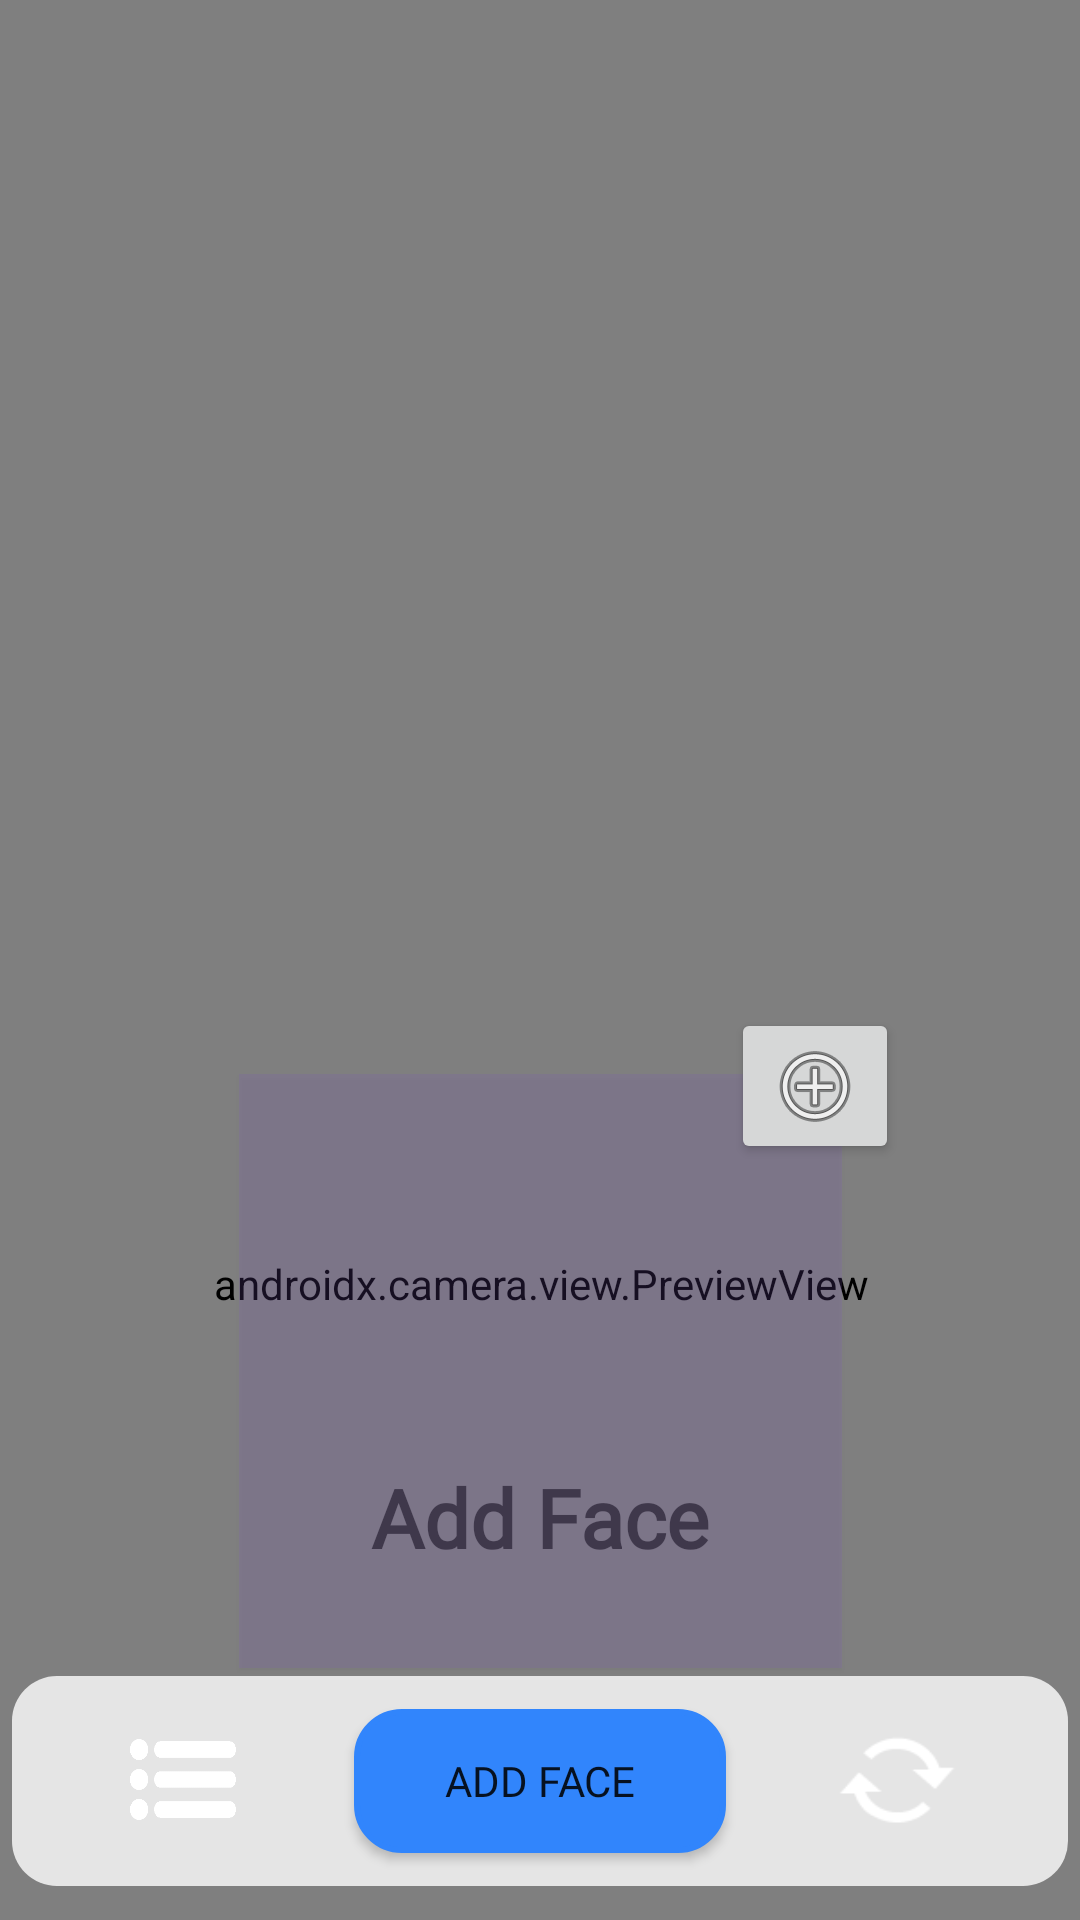

Icon click points for this 1080×1920 phone screenshot, format [x,y]:
add: [815,1086]
